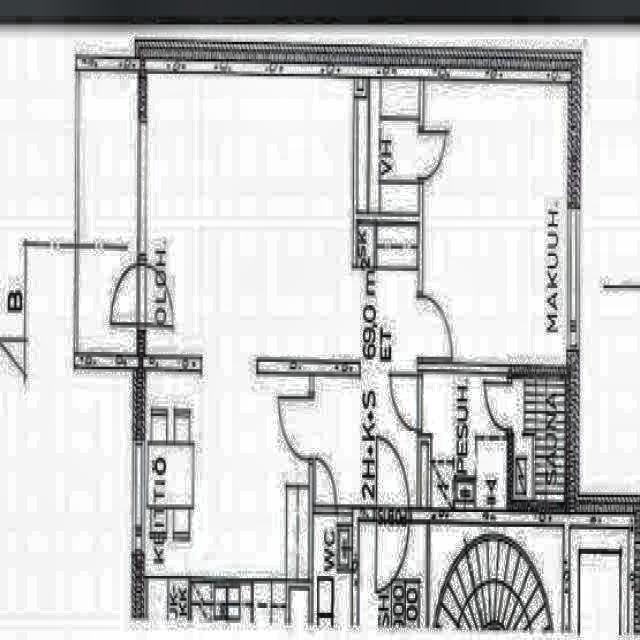room: (423, 82, 567, 365), (423, 374, 507, 509), (357, 79, 419, 213)
